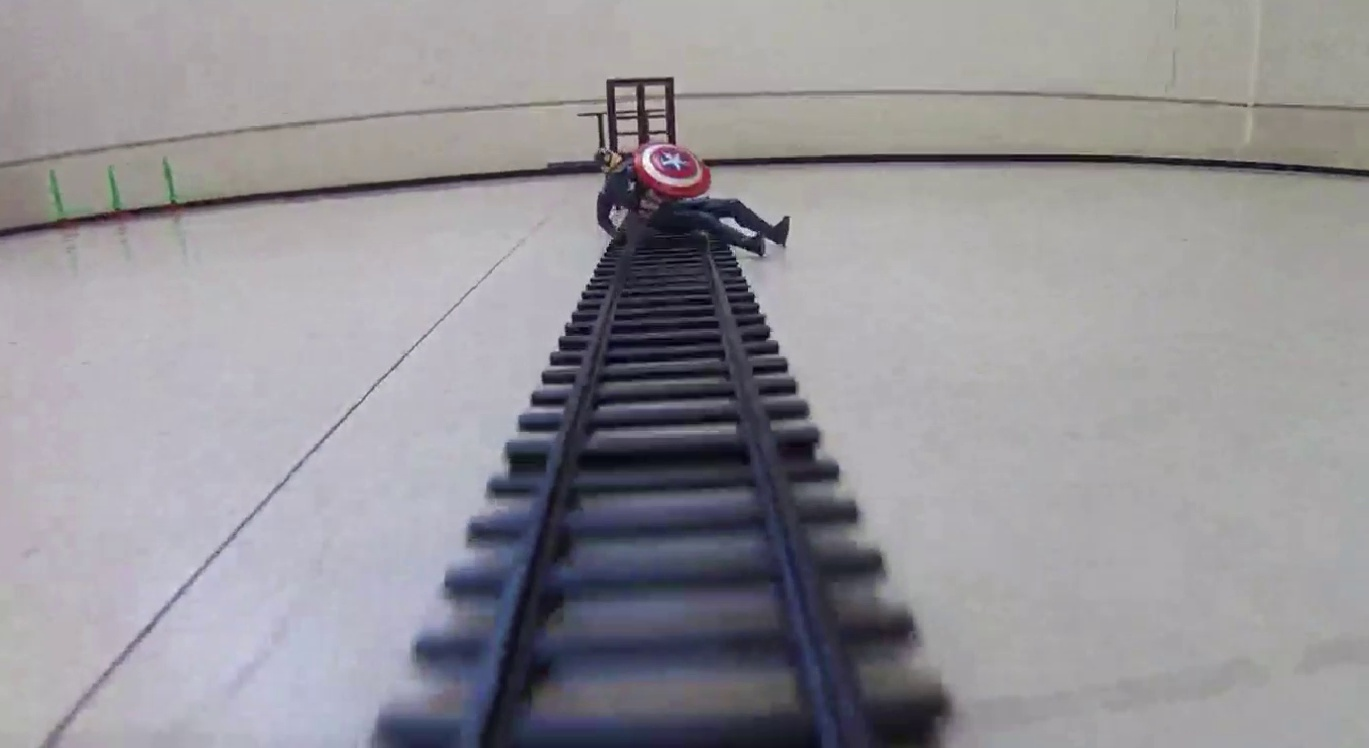people: (597, 142, 790, 256)
